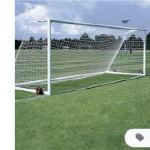goals: (14, 17, 150, 99)
